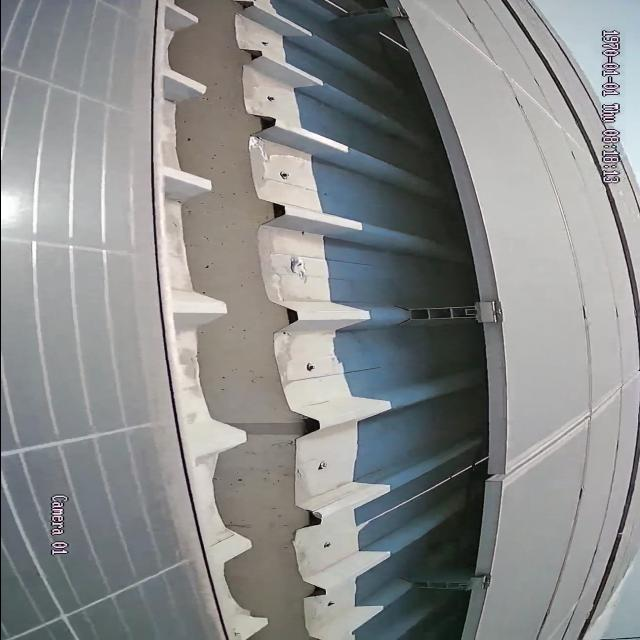interior panel: (507, 368, 636, 486)
outher panel: (149, 0, 496, 634)
